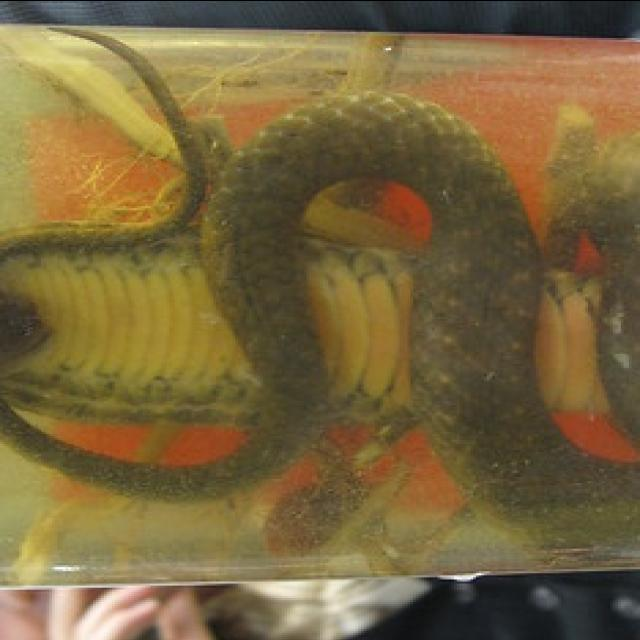Snake: (0, 26, 640, 562)
